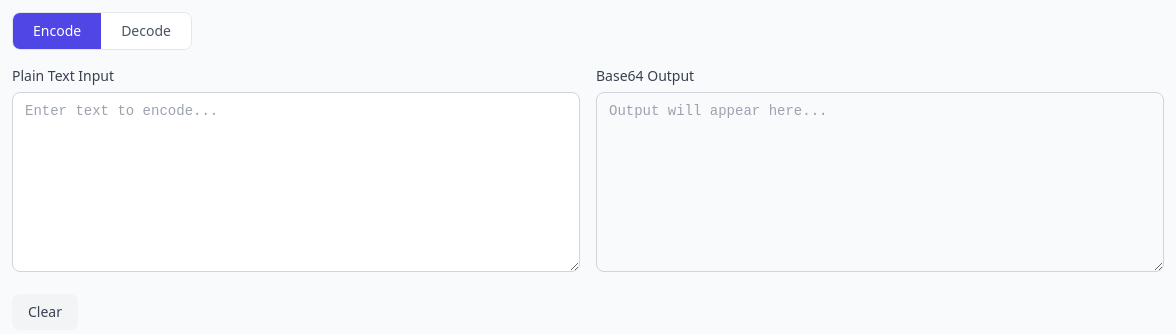
Base64Tool › invalid Base64 input in Decode mode shows error
This screenshot has width=1176, height=334.
Click the button "decode" at coordinates (146, 31), box [101,13,191,49]
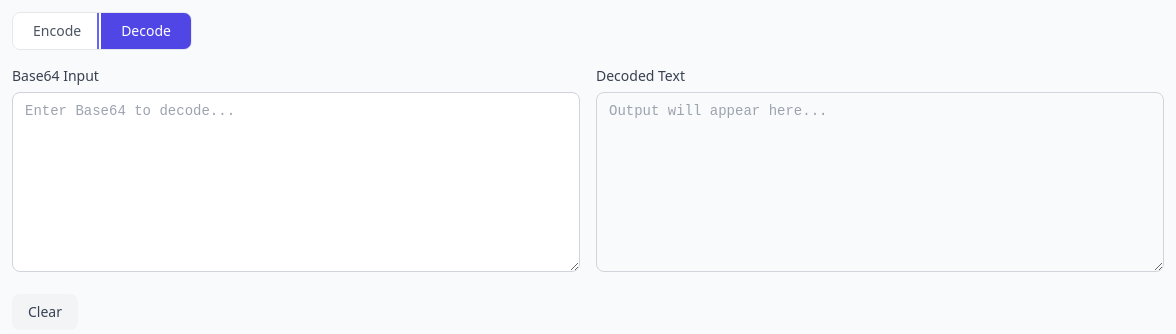
Type "!!!invalid!!!" into the text box with placeholder "Enter Base64 to decode..." at coordinates (296, 182), box [12,92,580,272]
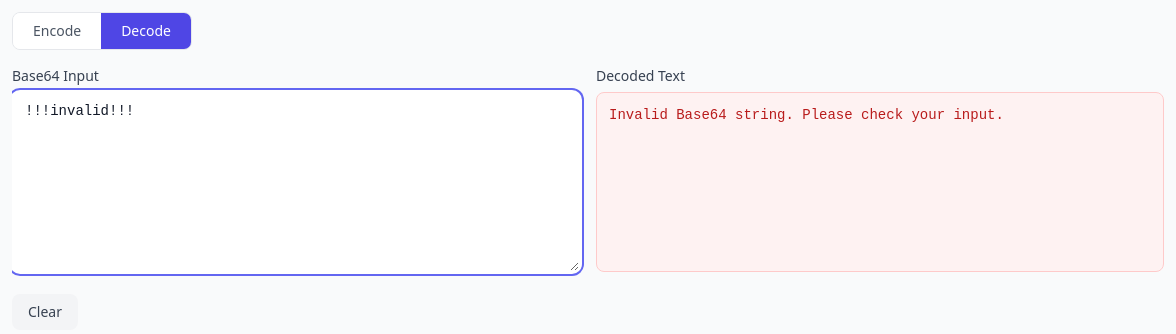
Expected: the text "Invalid Base64 string. Please check your input." is shown, [596,92,1164,272]
